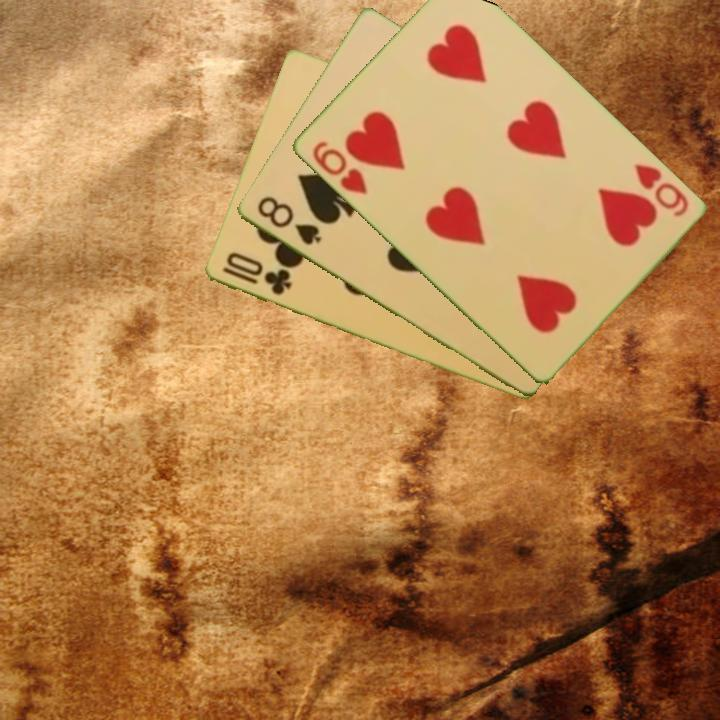10c: (218, 249, 294, 299)
6h: (630, 159, 691, 220), (308, 138, 370, 198)
8s: (253, 193, 324, 248)
